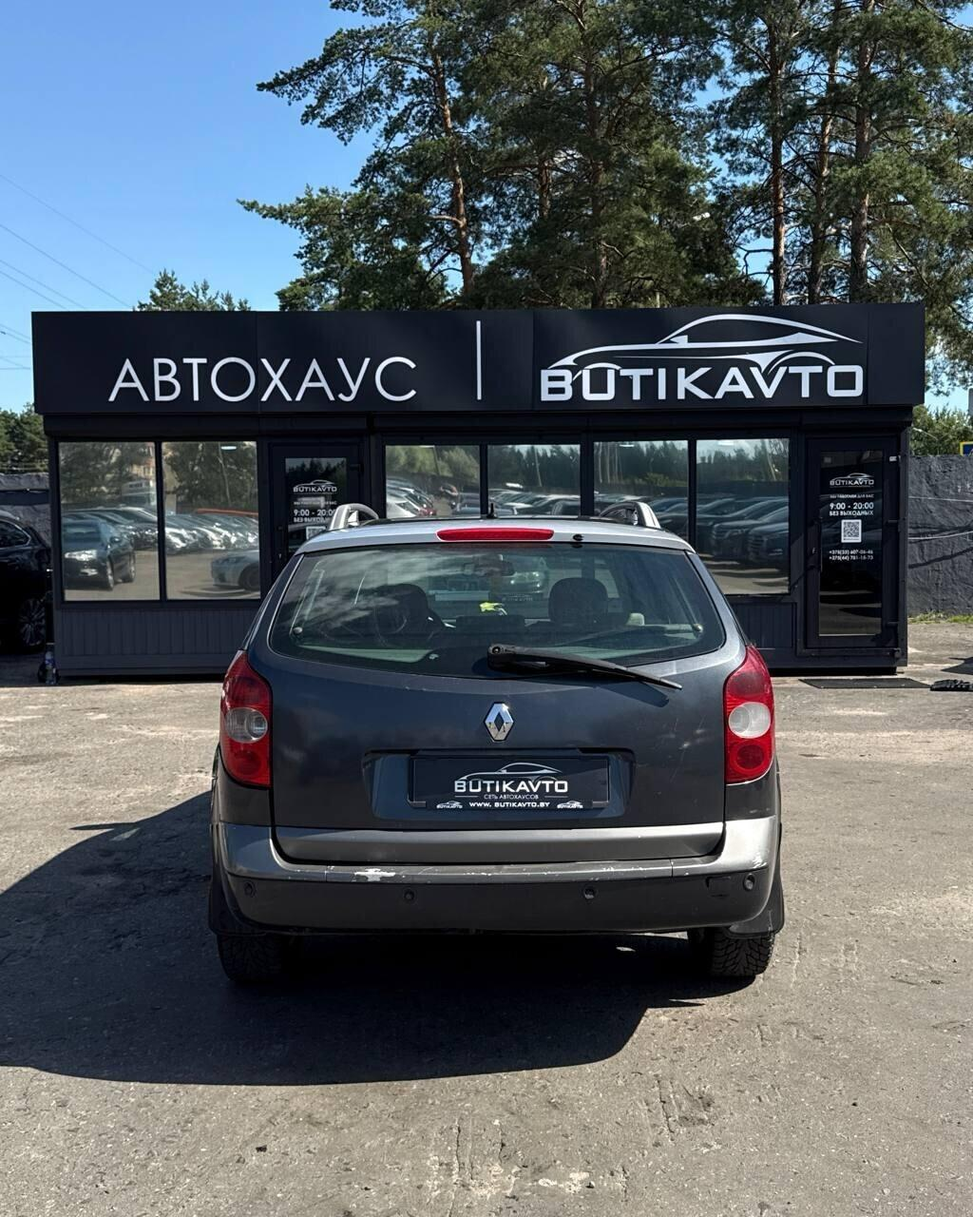Laguna_2001-2005: (211, 517, 780, 980)
